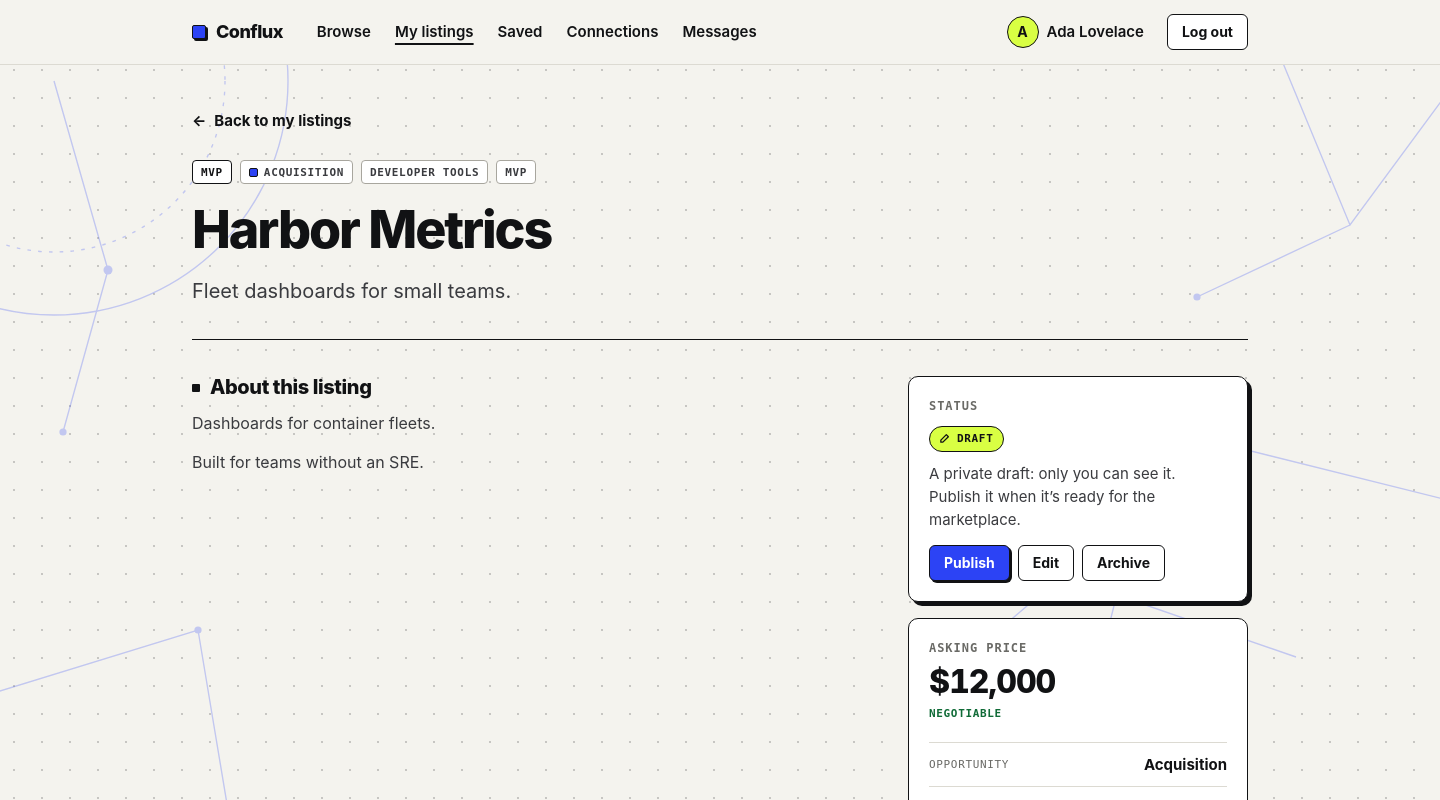
Test: My listing › explains a 429 on publish and keeps the listing as it was
The width and height of the screenshot is (1440, 800).
Click the button "Publish": [969, 563] box [929,545,1010,581]
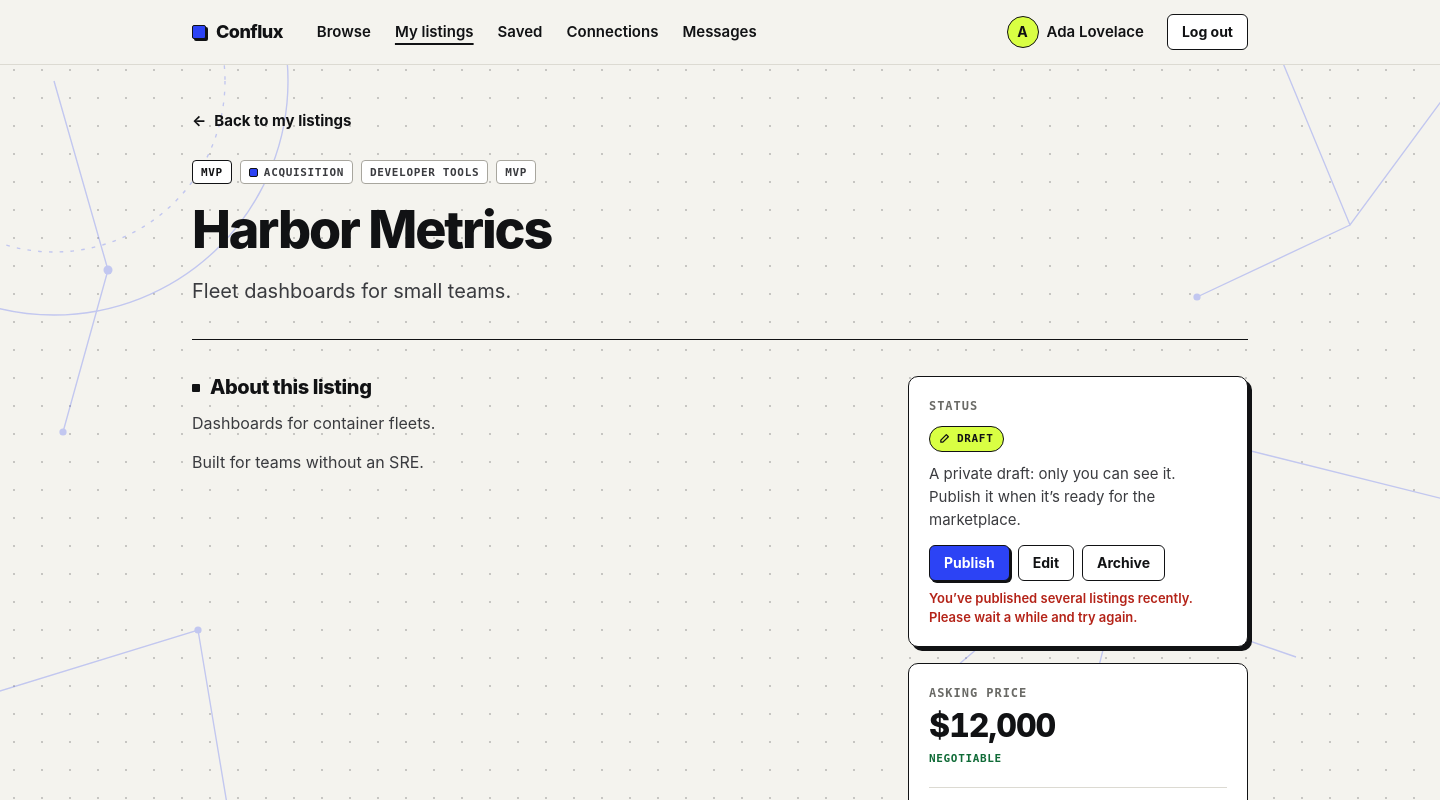
Expected: the text "Draft" is shown, [929,426,1004,452]
Now the message reads "You’ve published several listings recently. Please wait a while and try again.", box [929,590,1193,625]
